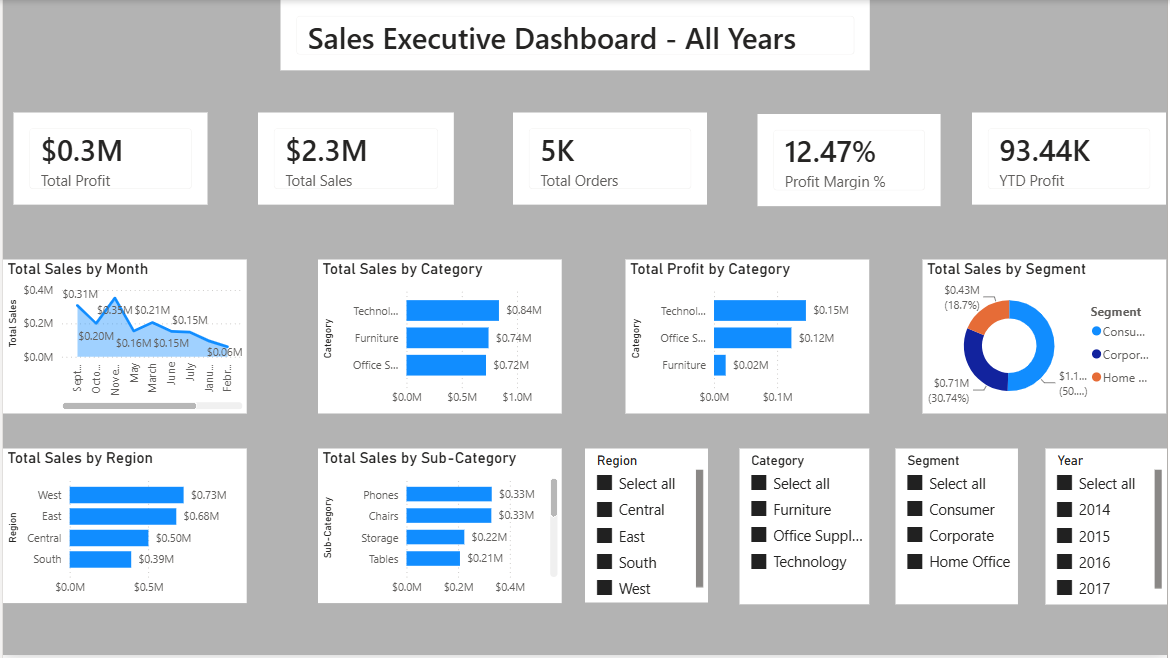

Layout of this report page (visuals, bound fields, positions):
{"tool":"powerbi","page":{"name":"Dynamic dashboard","canvas":[1280,720],"ordinal":1},"visuals":[{"type":"cardVisual","fields":{"Data":["measures (3).Dashboard Title"]},"box":[304.4,0,648.1,77.2],"z":0},{"type":"cardVisual","fields":{"Data":["measures (3).Total Profit"]},"box":[12.1,124.2,213.5,101.5],"z":1000},{"type":"cardVisual","fields":{"Data":["measures (3).Total Sales"]},"box":[280.1,124.2,215,101.5],"z":2000},{"type":"cardVisual","fields":{"Data":["measures (3).Total Orders"]},"box":[560.3,124.2,213.5,101.5],"z":3000},{"type":"cardVisual","fields":{"Data":["measures (3).Profit Margin %"]},"box":[829.8,125.7,201.4,101.5],"z":4000},{"type":"cardVisual","fields":{"Data":["measures (3).YTD Profit"]},"box":[1066,124.2,213.5,101.5],"z":5000},{"type":"lineChart","fields":{"Category":["Date Table.Month"],"Y":["measures (3).Total Sales"]},"box":[0,286.2,268,169.6],"z":6000},{"type":"clusteredBarChart","fields":{"Category":["Orders.Category"],"Y":["measures (3).Total Sales"]},"box":[346.8,286.2,268,169.6],"z":7000},{"type":"clusteredBarChart","fields":{"Category":["Orders.Category"],"Y":["measures (3).Total Profit"]},"box":[684.4,286.2,268,169.6],"z":8000},{"type":"donutChart","fields":{"Category":["Orders.Segment"],"Y":["measures (3).Total Sales"]},"box":[1011.5,286.2,268,169.6],"z":9000},{"type":"clusteredBarChart","fields":{"Category":["Orders.Region"],"Y":["measures (3).Total Sales"]},"box":[0,493,268,170],"z":10000},{"type":"clusteredBarChart","fields":{"Category":["Orders.Sub-Category"],"Y":["measures (3).Total Sales"]},"box":[347,493,268,170],"z":11000},{"type":"slicer","fields":{"Values":["People.Region"]},"box":[640.5,493.6,134.8,169.6],"z":12000},{"type":"slicer","fields":{"Values":["Orders.Category"]},"box":[810.1,493.6,142.3,171.1],"z":13000},{"type":"slicer","fields":{"Values":["Orders.Segment"]},"box":[981.2,493.6,134.8,171.1],"z":14000},{"type":"slicer","fields":{"Values":["Date Table.Year"]},"box":[1146.3,493.6,133.3,171.1],"z":15000}]}

Visuals, with their boxes in screenshot pixels (x1, y1, x2, y2), scaled from the page's 1280x720 canvas onto the 1170x658 screenshot:
cardVisual - measures (3).Dashboard Title: (x1=278, y1=0, x2=871, y2=71)
cardVisual - measures (3).Total Profit: (x1=11, y1=114, x2=206, y2=206)
cardVisual - measures (3).Total Sales: (x1=256, y1=114, x2=453, y2=206)
cardVisual - measures (3).Total Orders: (x1=512, y1=114, x2=707, y2=206)
cardVisual - measures (3).Profit Margin %: (x1=758, y1=115, x2=943, y2=208)
cardVisual - measures (3).YTD Profit: (x1=974, y1=114, x2=1169, y2=206)
lineChart - Date Table.Month x measures (3).Total Sales: (x1=0, y1=262, x2=245, y2=417)
clusteredBarChart - Orders.Category x measures (3).Total Sales: (x1=317, y1=262, x2=562, y2=417)
clusteredBarChart - Orders.Category x measures (3).Total Profit: (x1=626, y1=262, x2=871, y2=417)
donutChart - Orders.Segment x measures (3).Total Sales: (x1=925, y1=262, x2=1169, y2=417)
clusteredBarChart - Orders.Region x measures (3).Total Sales: (x1=0, y1=451, x2=245, y2=606)
clusteredBarChart - Orders.Sub-Category x measures (3).Total Sales: (x1=317, y1=451, x2=562, y2=606)
slicer - People.Region: (x1=585, y1=451, x2=709, y2=606)
slicer - Orders.Category: (x1=740, y1=451, x2=871, y2=607)
slicer - Orders.Segment: (x1=897, y1=451, x2=1020, y2=607)
slicer - Date Table.Year: (x1=1048, y1=451, x2=1169, y2=607)
